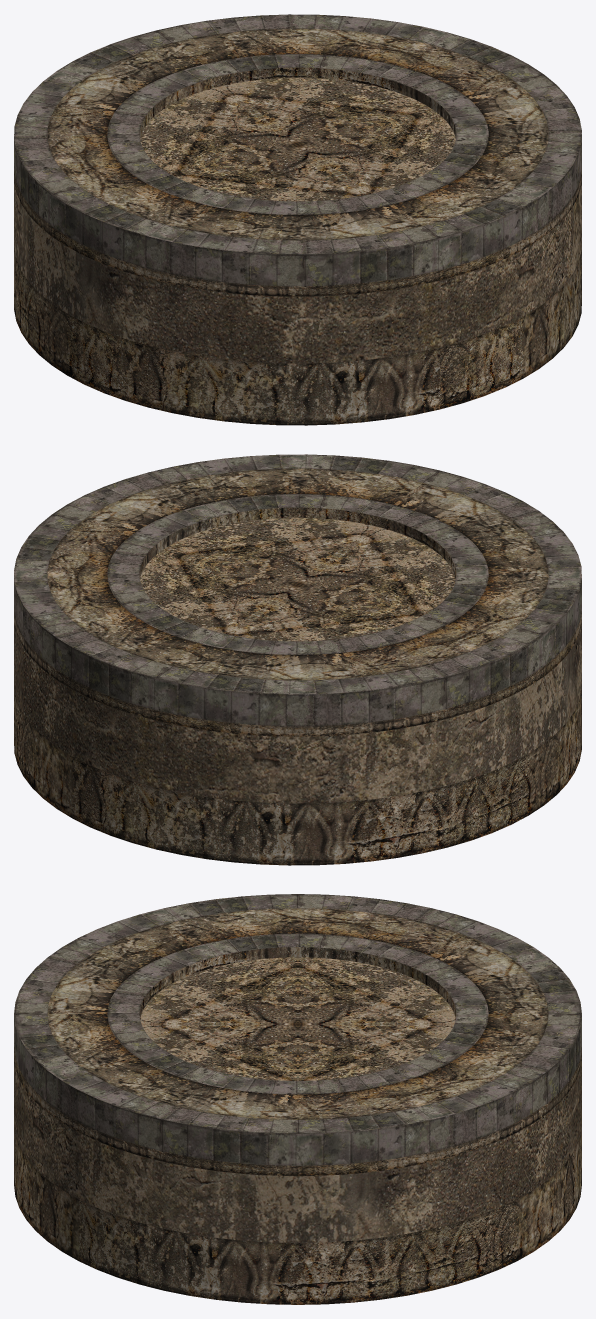
The model's file is materials_5_pillar_fat_19.fbx.
The picture shows the model from 3 angles, top to bottom: view 1: azimuth 30°, elevation 25°; view 2: azimuth 150°, elevation 25°; view 3: azimuth 270°, elevation 25°; orthographic projection.
Parts seen in each view (by area): view 1: materials_5_pillar_fat_19; view 2: materials_5_pillar_fat_19; view 3: materials_5_pillar_fat_19.
Boxes of the visible parts, box(x1,y1,x2,y2) form: materials_5_pillar_fat_19: box(14, 14, 581, 425); materials_5_pillar_fat_19: box(14, 454, 581, 865); materials_5_pillar_fat_19: box(14, 894, 581, 1304).
Bounding box in the file's own units: 135 × 44.71 × 135.
